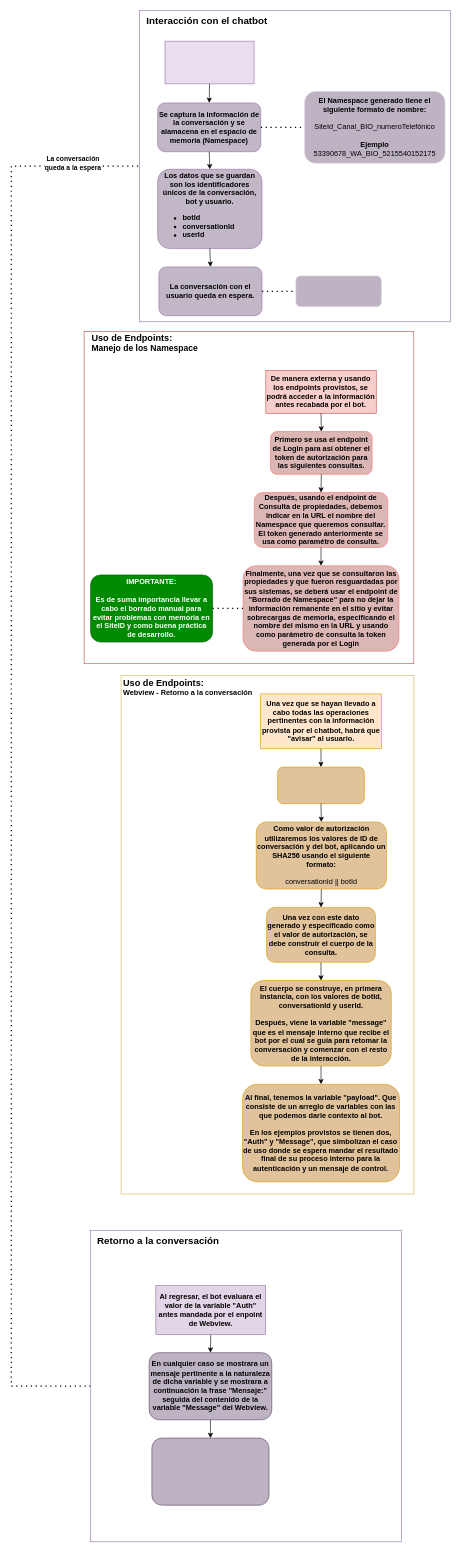
This 466x1552 diagram has some shape labels left out. Each missing label, with the centre of its shape:
"El usuario interactúa con el bot." goes at point 209,62.
"Luego de esto la conversación se da por terminada." goes at point 210,1471.
"Nota: la duración de la conversación en este estado es de 24 horas." goes at point 338,291.
"Para esto utilizaremos el endpoint de Webview." goes at point 320,785.
